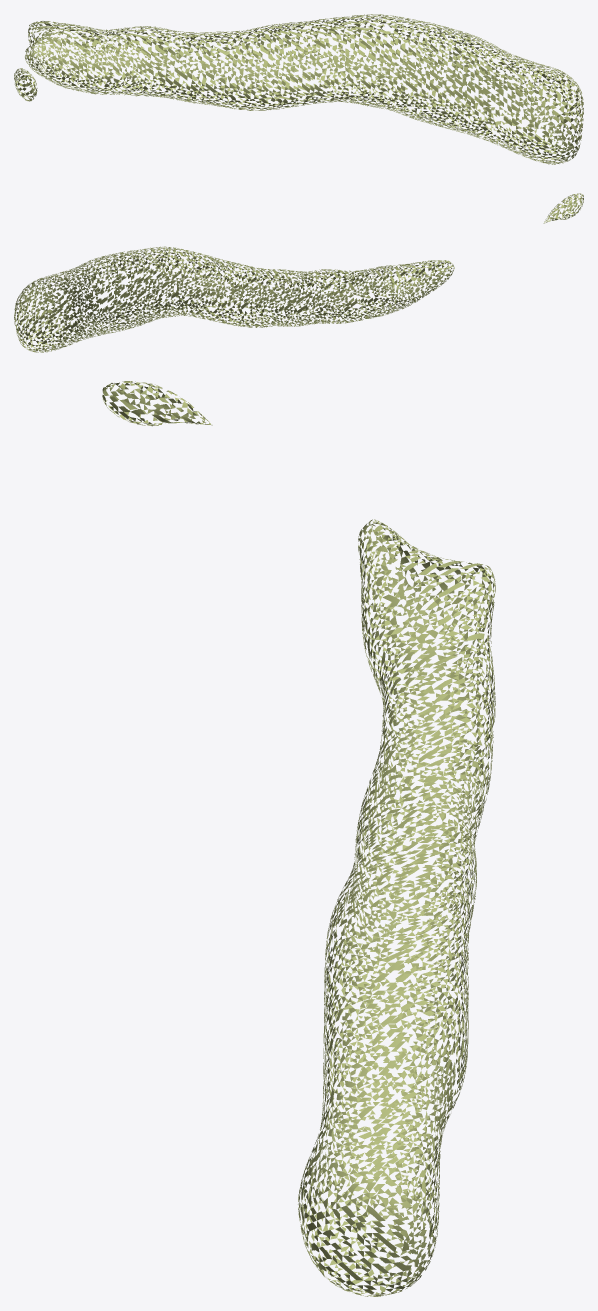
The model's file is morph_010.glb.
The picture shows the model from 3 angles, top to bottom: view 1: azimuth 30°, elevation 25°; view 2: azimuth 150°, elevation 25°; view 3: azimuth 270°, elevation 25°; orthographic projection. The views are drawn at different scales.
Size of the model in its own units: 117 by 50.7 by 39.98.
